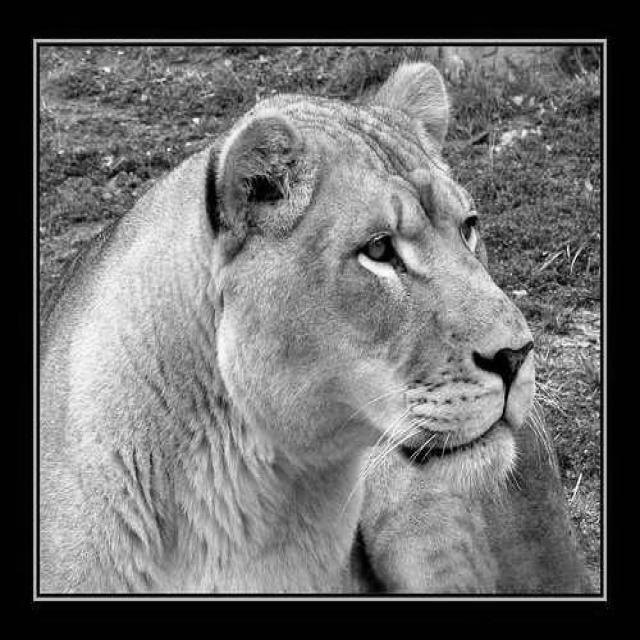Lion: (94, 63, 556, 581)
